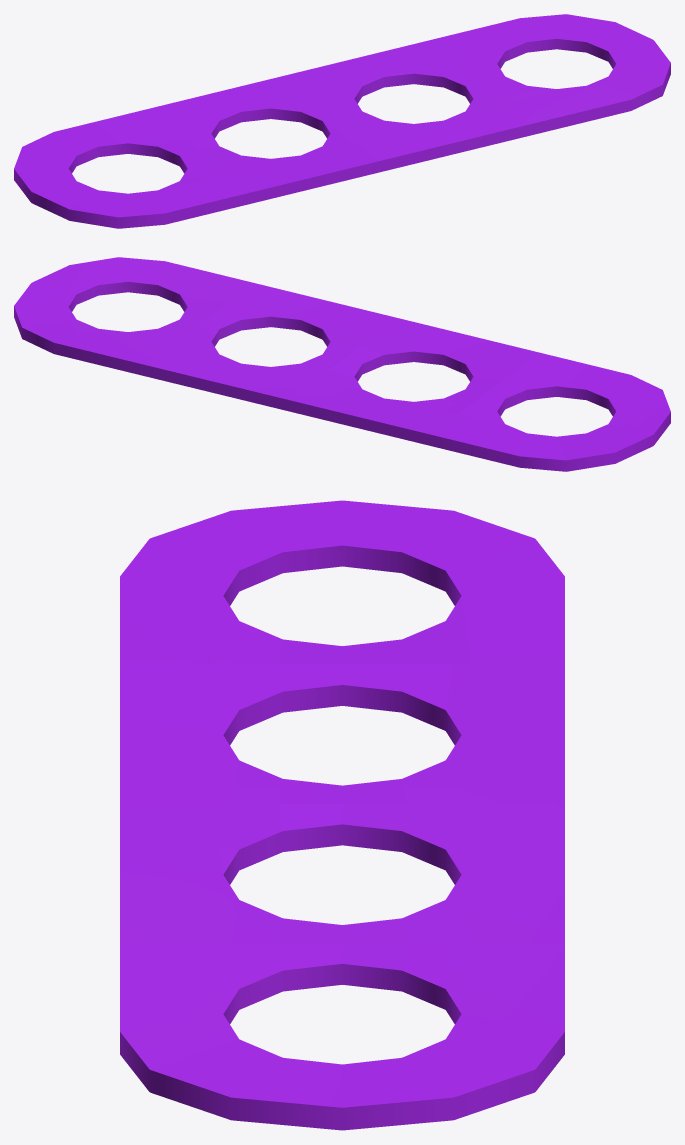
File: FourLongPink.fbx
The picture shows the model from 3 angles, top to bottom: view 1: azimuth 30°, elevation 25°; view 2: azimuth 150°, elevation 25°; view 3: azimuth 270°, elevation 25°; orthographic projection. The views are drawn at different scales.
Visible parts, largest first — view 1: Blue4; view 2: Blue4; view 3: Blue4.
Boxes of the visible parts, x1,y1,x2,y2 form: Blue4: [14, 14, 670, 228]; Blue4: [14, 257, 670, 471]; Blue4: [120, 500, 564, 1130].
Size of the model in its own units: 11.13 by 0.1942 by 3.45.
